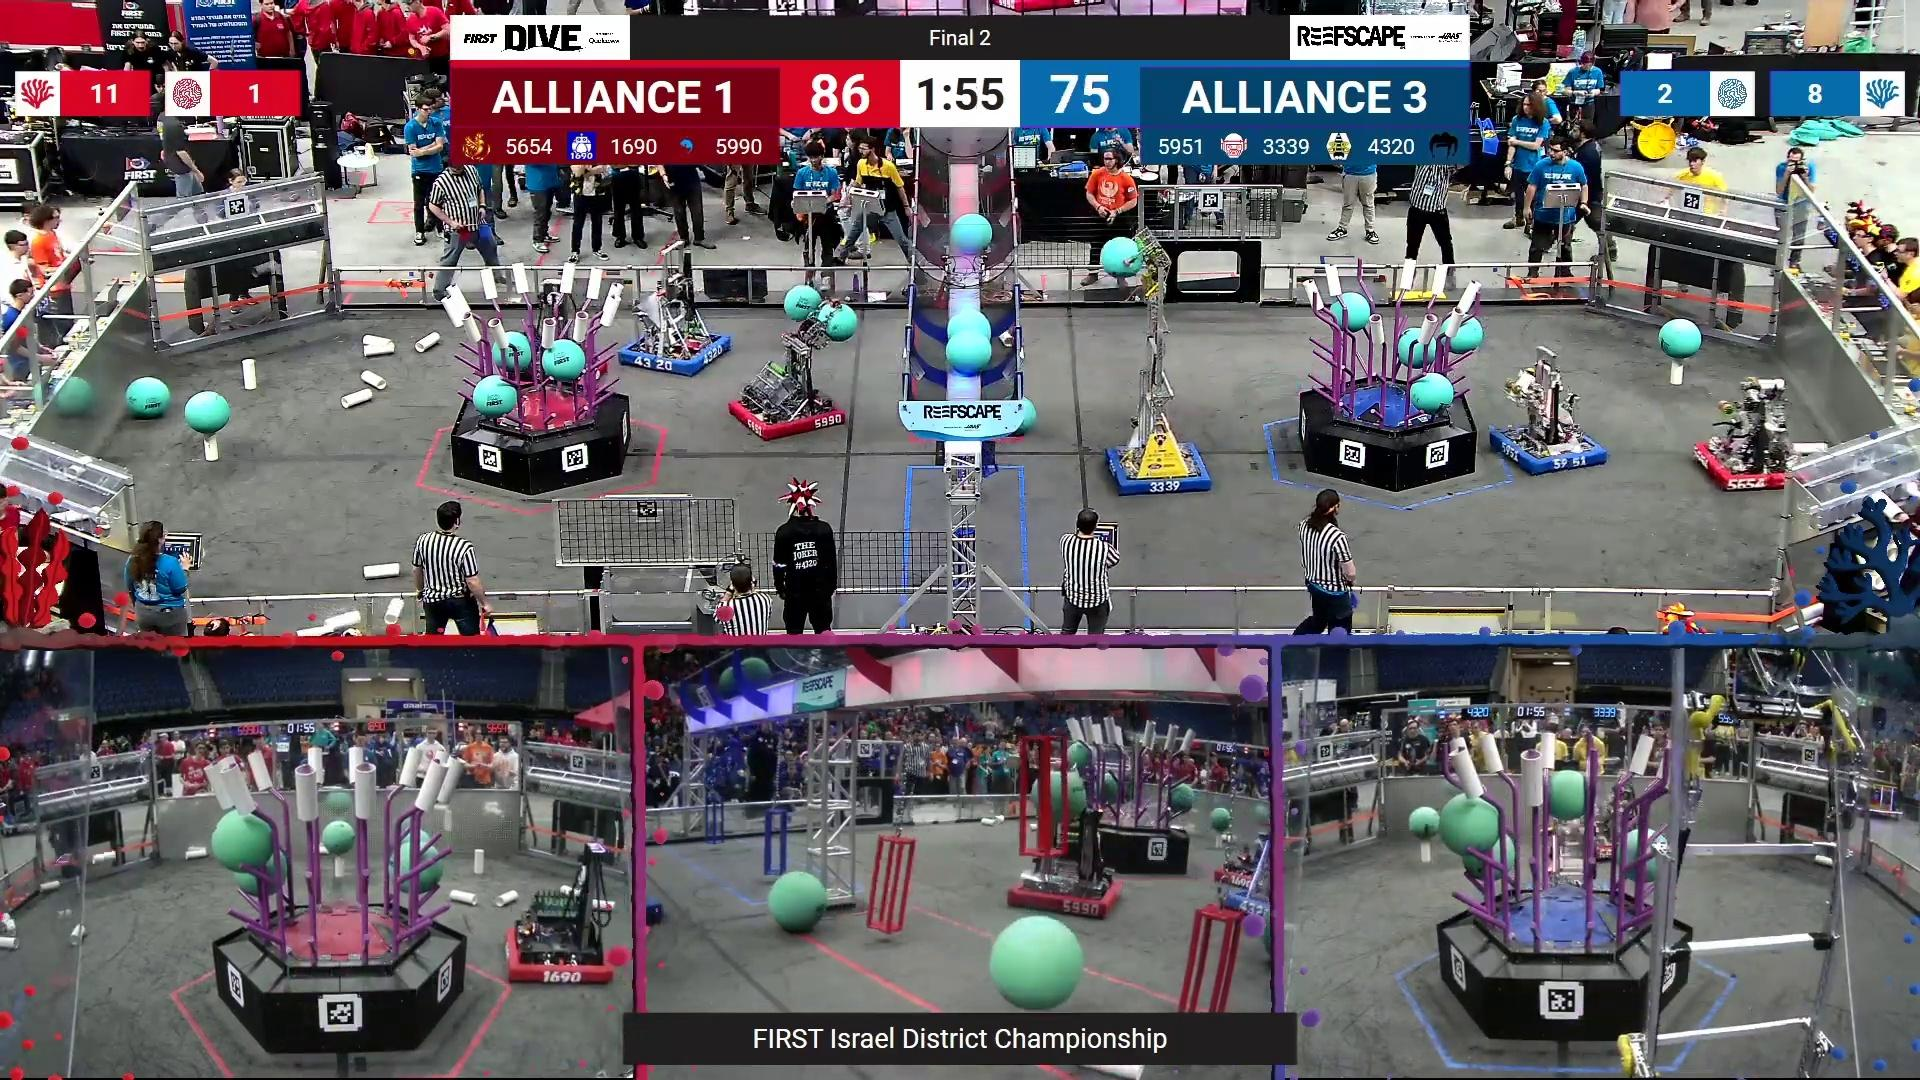robot: (1105, 229, 1213, 496), (501, 841, 615, 989), (1489, 347, 1610, 477), (729, 305, 847, 435), (621, 240, 732, 376), (1007, 794, 1125, 918), (1691, 375, 1803, 495), (501, 269, 609, 392), (785, 291, 855, 349), (1224, 844, 1271, 928), (1213, 823, 1269, 891), (645, 894, 666, 930)
